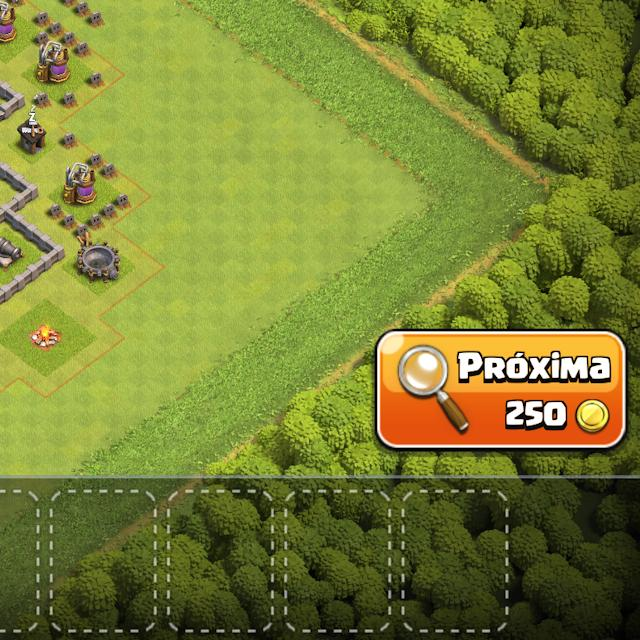Next: (371, 326, 632, 460)
